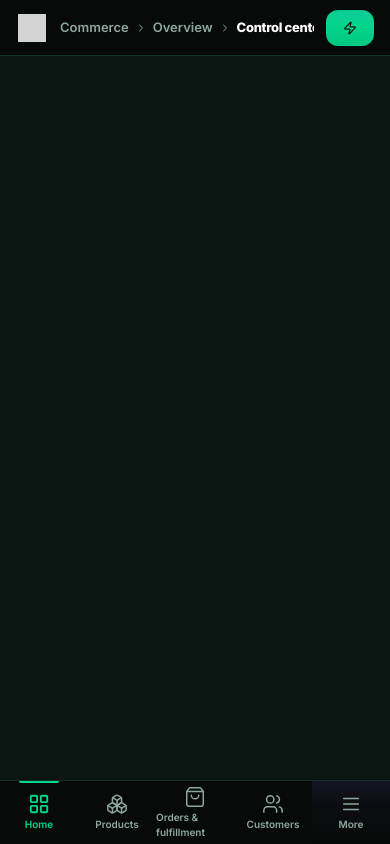
Test: the mobile "More" sheet shows the same admin as the desktop rail › heads every section and every group, in the rail order
Click the button with aria-label "More options" at point(351, 812), box [312, 781, 389, 843]
(page scrolled)
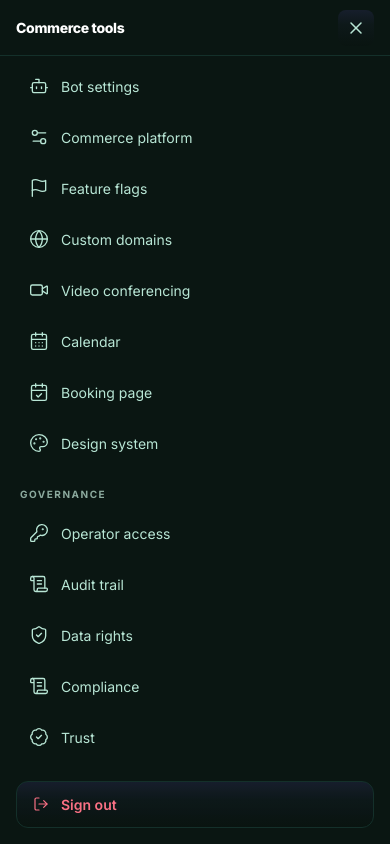
Check: the heading "Governance" is shown, box [20, 488, 106, 500]
